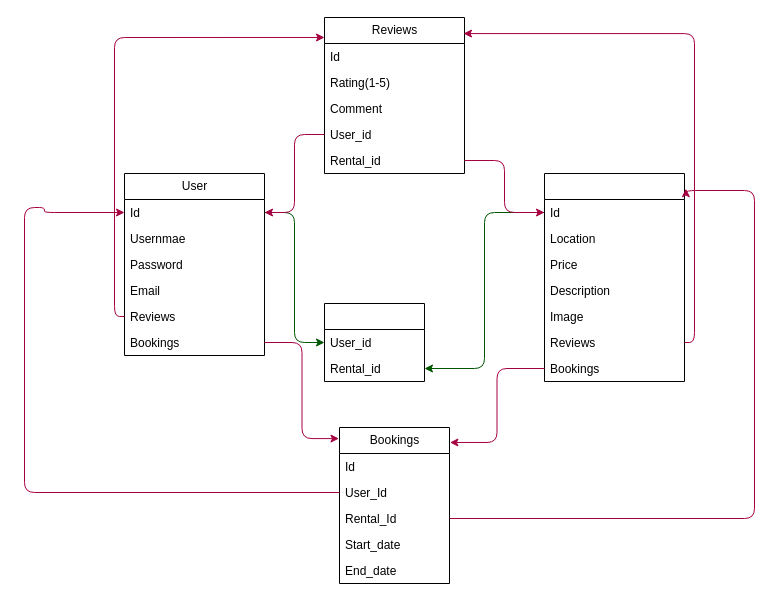
This 780x604 diagram has some shape labels left out. The box of each missing label's shape, as (x1, y1, x2, y2) in pixels:
Rentals: (544, 172, 684, 382)
Wishlist: (324, 302, 424, 382)
